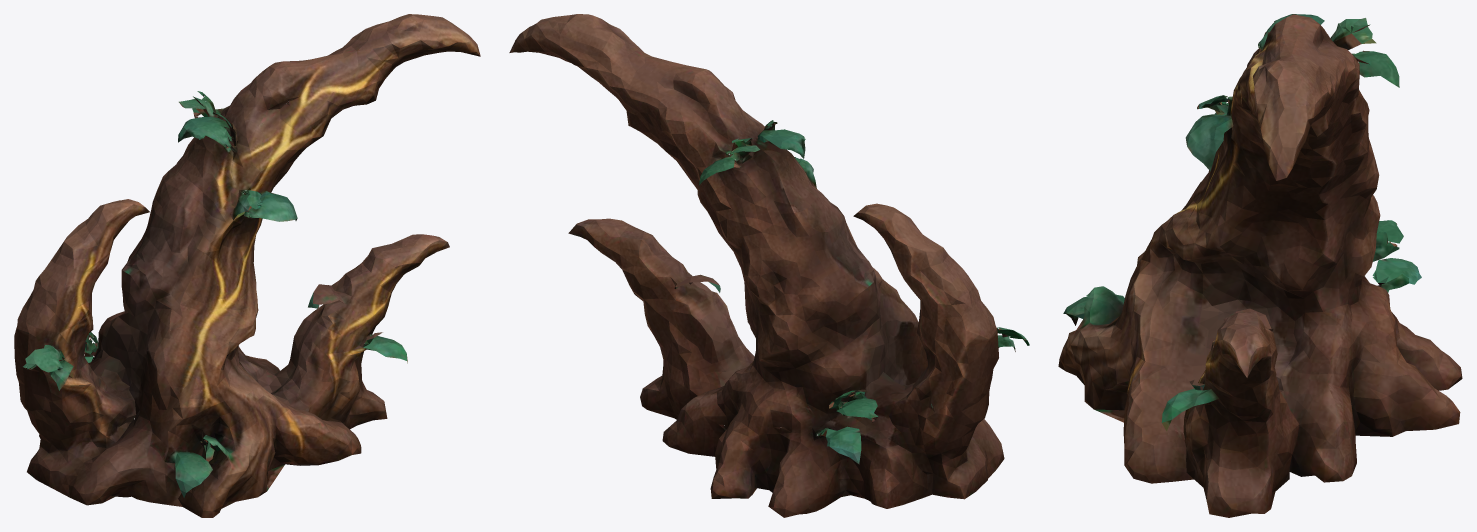
Rendered from fairy_root_1117.glb.
3 views of the same model, side by side, from view 1: azimuth 30°, elevation 25°; view 2: azimuth 150°, elevation 25°; view 3: azimuth 270°, elevation 25° (orthographic). The views are drawn at different scales.
Visible parts, largest first — view 1: world; view 2: world; view 3: world.
Part boxes in pixels (x1,y1,x2,y2): world: (14, 14, 480, 517); world: (509, 14, 1029, 517); world: (1058, 14, 1462, 517).
Bounding box in the file's own units: 1.35 × 1 × 0.7625.
Materials: 1 (1 with a texture image).
